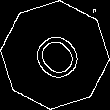O_SE: (22, 21, 88, 89)
